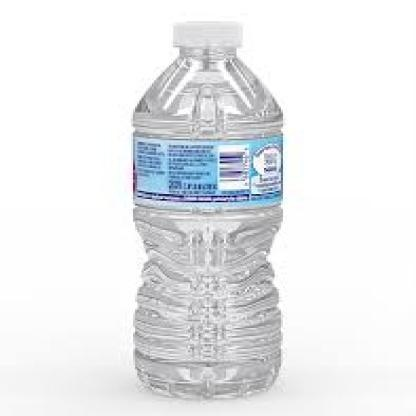trash: (133, 22, 282, 397)
